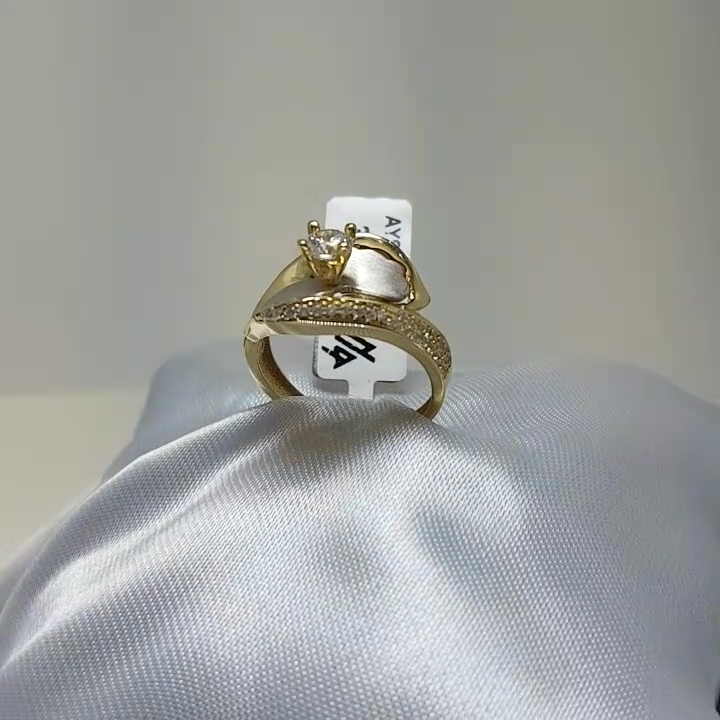Ring 6: (223, 192, 474, 460)
